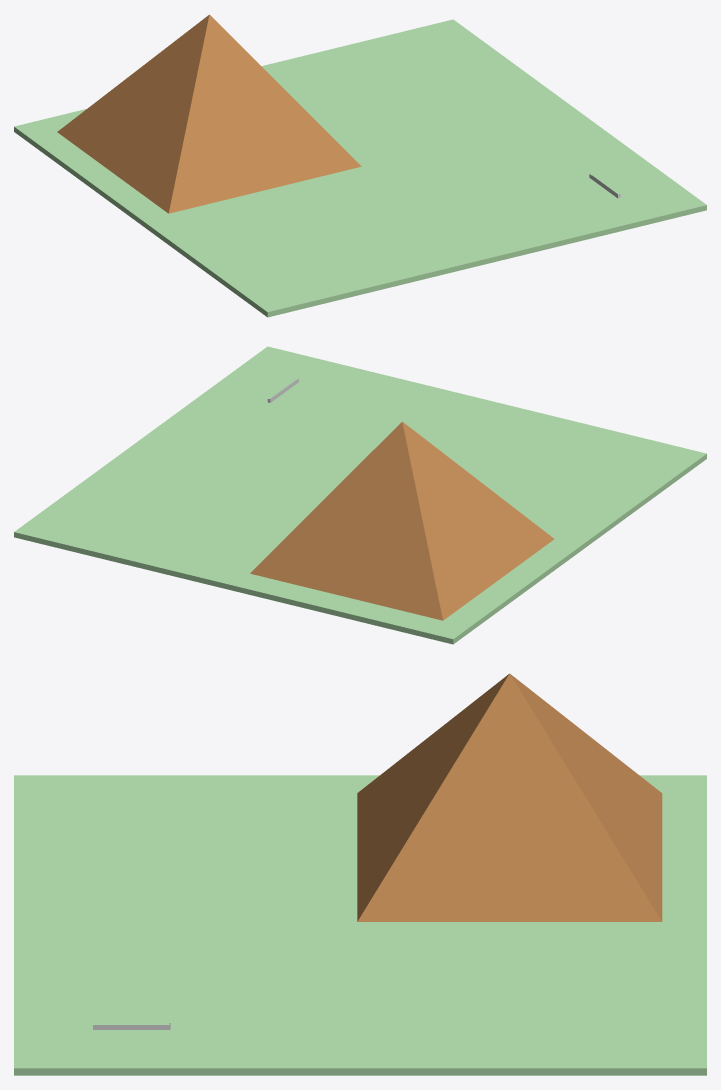
3 views of the same model, one above another, from view 1: azimuth 30°, elevation 25°; view 2: azimuth 150°, elevation 25°; view 3: azimuth 270°, elevation 25° (orthographic). The views are drawn at different scales.
Visible parts, largest first — view 1: TRI_C_CONVEX_PLACABLE (bottom plane), Cube; view 2: TRI_C_CONVEX_PLACABLE (bottom plane), Cube; view 3: TRI_C_CONVEX_PLACABLE (bottom plane), Cube.
Boxes of the visible parts, box(x1,y1,x2,y2) form: TRI_C_CONVEX_PLACABLE (bottom plane): box(14, 19, 706, 317); Cube: box(57, 14, 361, 213); TRI_C_CONVEX_PLACABLE (bottom plane): box(14, 346, 706, 644); Cube: box(250, 421, 554, 620); TRI_C_CONVEX_PLACABLE (bottom plane): box(14, 775, 706, 1075); Cube: box(357, 673, 662, 921).
Bounding box in the file's own units: 500 × 152 × 500.
